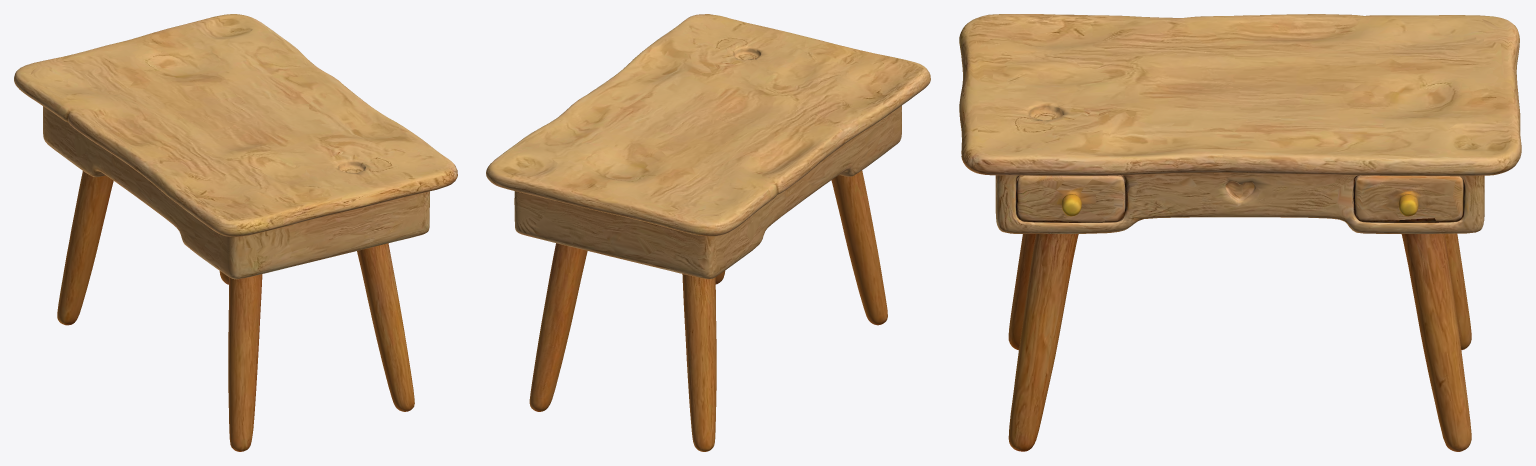
The model's file is room-writing-desk.glb.
3 renders of one model, left to right at view 1: azimuth 30°, elevation 25°; view 2: azimuth 150°, elevation 25°; view 3: azimuth 270°, elevation 25°, orthographic. The views are drawn at different scales.
Parts seen in each view (by area): view 1: tripo_node_730d14df-9feb-40c9-8327-987f4b1c0fa2; view 2: tripo_node_730d14df-9feb-40c9-8327-987f4b1c0fa2; view 3: tripo_node_730d14df-9feb-40c9-8327-987f4b1c0fa2.
Boxes of the visible parts, left/top/right/bottom form: tripo_node_730d14df-9feb-40c9-8327-987f4b1c0fa2: left=14, top=14, right=457, bottom=451; tripo_node_730d14df-9feb-40c9-8327-987f4b1c0fa2: left=486, top=14, right=930, bottom=451; tripo_node_730d14df-9feb-40c9-8327-987f4b1c0fa2: left=959, top=14, right=1521, bottom=451.
Bounding box in the file's own units: 0.6171 × 0.6048 × 0.9784.
Materials: 1 (1 with a texture image).
